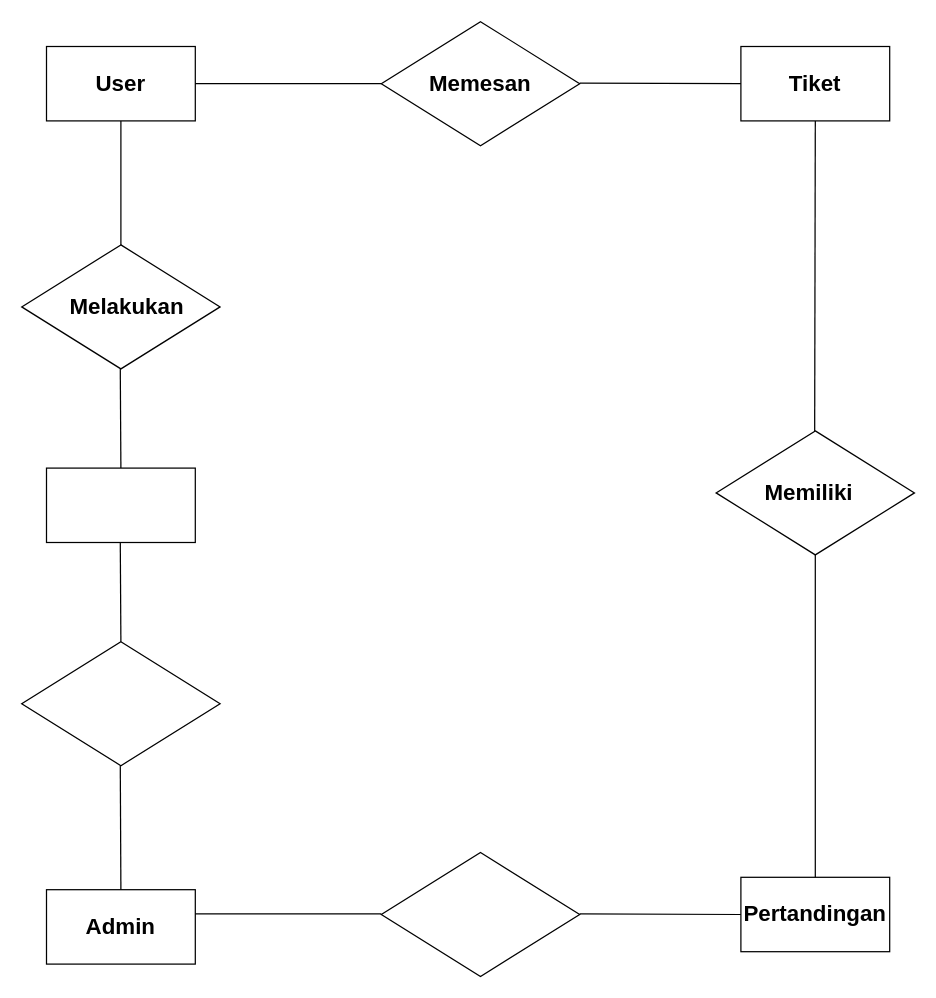
The diagram is 936 pixels wide and 998 high, and some of its shapes have lost their labels. Here are the shapes that lost their labels. From the top down, the box of each, then its label:
(45, 467, 195, 542): Pembayaran
(20, 640, 220, 766): Verifikasi
(380, 851, 580, 976): Mengelola
